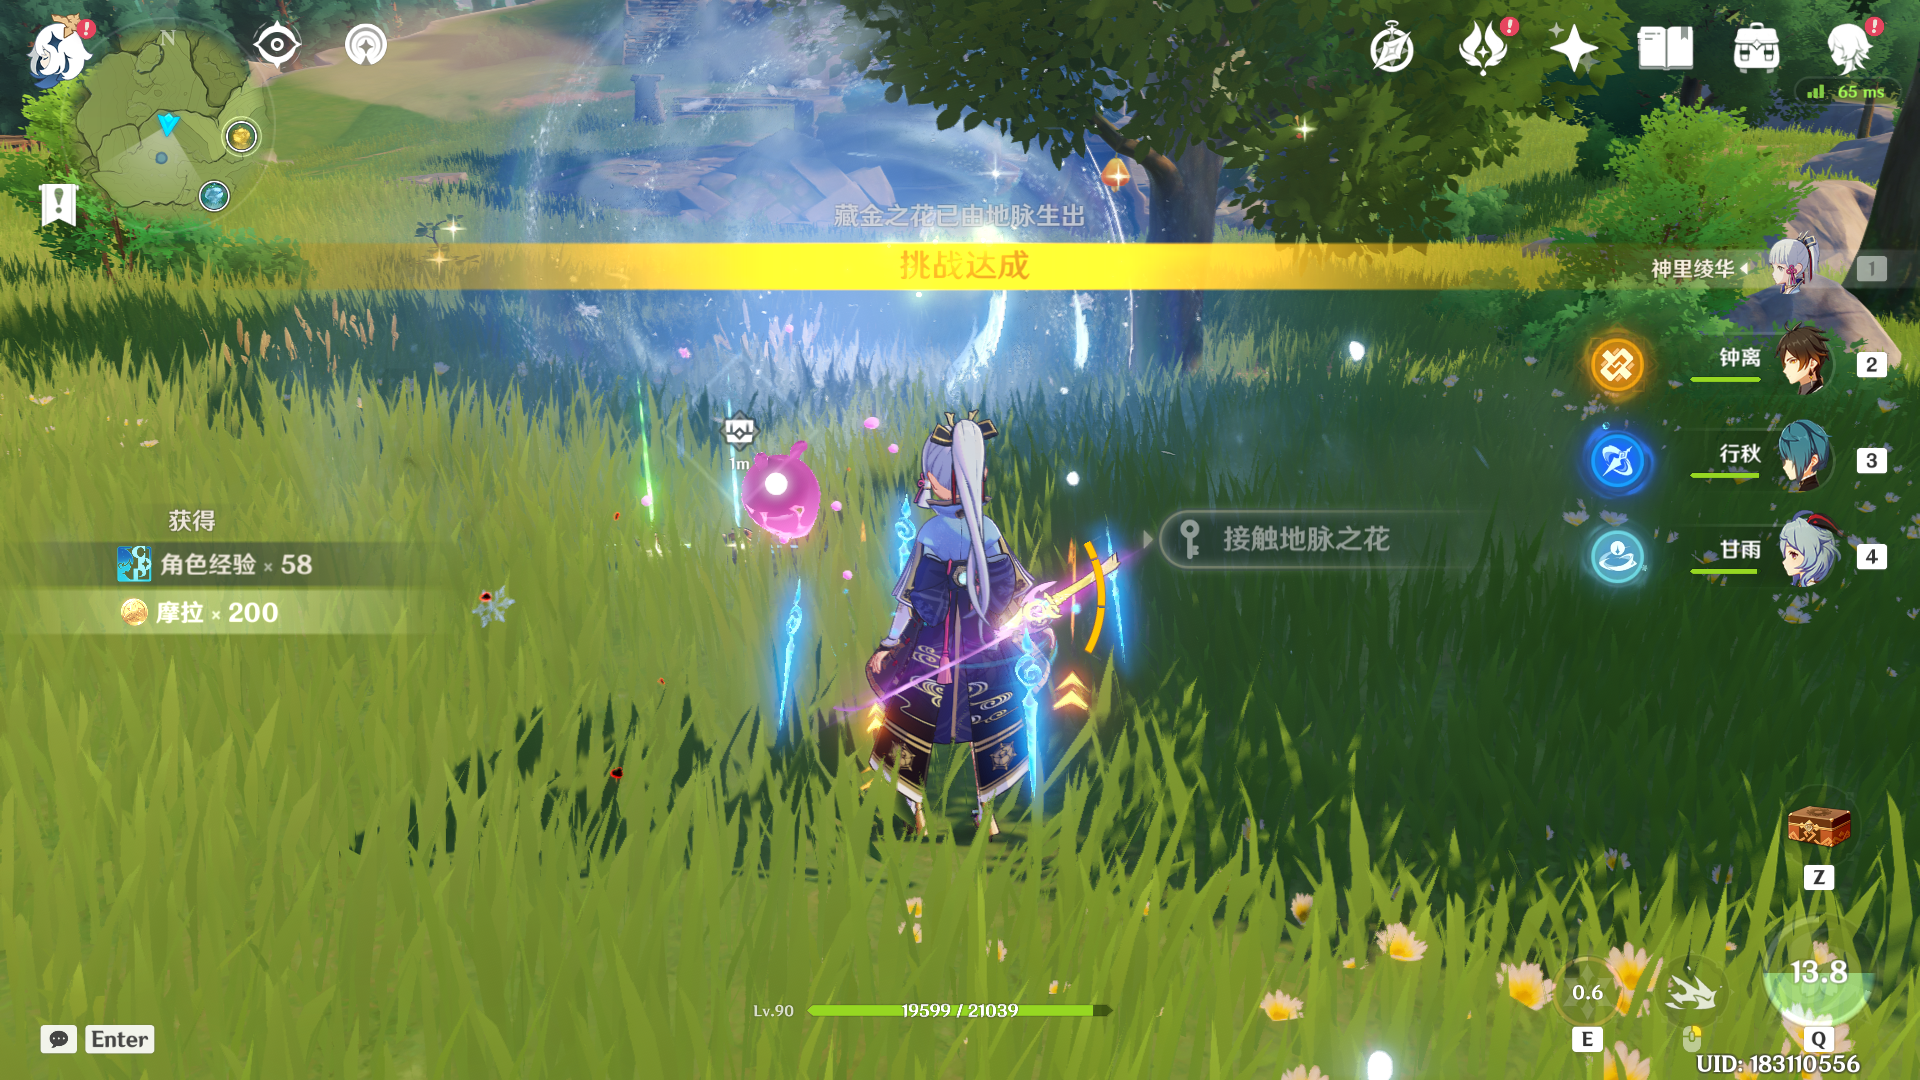character: (791, 386, 1127, 916)
